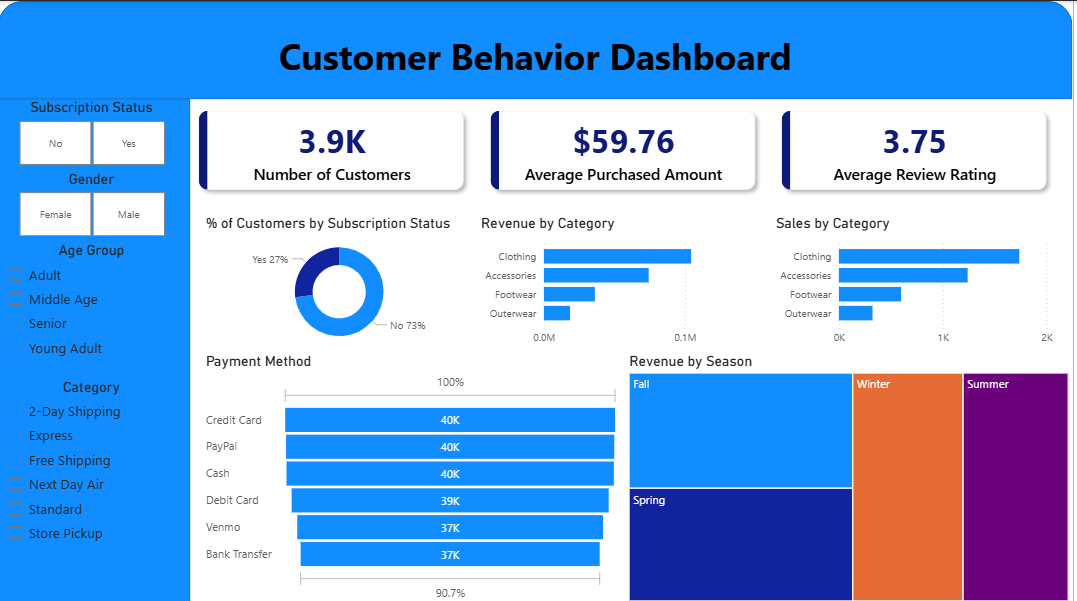

What the dashboard file says about the page in this screenshot:
{"tool":"powerbi","page":{"name":"Page 1","canvas":[1280,720],"ordinal":0},"visuals":[{"type":"cardVisual","fields":{"Data":["public customer.Number of Customers","public customer.Average Purchased Amount","public customer.Average Review Rating"]},"box":[210.4,101.8,1069.1,152.7],"z":0},{"type":"shape","box":[0,0,1279.5,117.1],"z":1000},{"type":"textbox","box":[0,30.5,1279.5,71.3],"z":2000},{"type":"donutChart","title":"% of Customers by Subscription Status","fields":{"Category":["public customer.subscription_status"],"Y":["CountNonNull(public customer.customer_id)"]},"box":[242.7,254.6,327.5,164.6],"z":3000},{"type":"clusteredBarChart","title":"Revenue by Category","fields":{"Category":["public customer.category"],"Y":["Sum(public customer.purchase_amount)"]},"box":[570.2,254.6,351.3,164.6],"z":4000},{"type":"clusteredBarChart","title":"Sales by Category","fields":{"Category":["public customer.category"],"Y":["public customer.Number of Customers"]},"box":[921.5,254.6,339.4,164.6],"z":5000},{"type":"shape","box":[0,117.1,229.1,602.4],"z":6000},{"type":"slicer","title":"Subscription Status","fields":{"Values":["public customer.subscription_status"]},"box":[0,117.1,222.3,84.9],"z":7000},{"type":"slicer","title":"Gender","fields":{"Values":["public customer.gender"]},"box":[0,201.9,222.3,84.9],"z":8000},{"type":"slicer","title":"Age Group","fields":{"Values":["public customer.age_group"]},"box":[0,286.8,222.3,162.9],"z":9000},{"type":"slicer","title":"Category","fields":{"Values":["public customer.shipping_type"]},"box":[0,449.7,222.3,269.8],"z":10000},{"type":"funnel","title":"Payment Method","fields":{"Category":["public customer.payment_method"],"Y":["Sum(public customer.purchase_amount)"]},"box":[242.7,419.2,502.3,300.4],"z":11000},{"type":"treemap","title":"Revenue by Season","fields":{"Group":["public customer.season"],"Values":["Sum(public customer.purchase_amount)"]},"box":[746.7,419.2,532.9,300.4],"z":12000}]}

Visuals, with their boxes in screenshot pixels (x1, y1, x2, y2), scaled from the page's 1280x720 canvas onto the 1077x601 screenshot:
cardVisual - public customer.Number of Customers x public customer.Average Purchased Amount: (left=177, top=85, right=1076, bottom=212)
shape: (left=0, top=0, right=1076, bottom=98)
textbox: (left=0, top=25, right=1076, bottom=85)
"% of Customers by Subscription Status" donutChart: (left=204, top=213, right=480, bottom=350)
"Revenue by Category" clusteredBarChart: (left=480, top=213, right=775, bottom=350)
"Sales by Category" clusteredBarChart: (left=775, top=213, right=1061, bottom=350)
shape: (left=0, top=98, right=193, bottom=600)
"Subscription Status" slicer: (left=0, top=98, right=187, bottom=169)
"Gender" slicer: (left=0, top=169, right=187, bottom=239)
"Age Group" slicer: (left=0, top=239, right=187, bottom=375)
"Category" slicer: (left=0, top=375, right=187, bottom=600)
"Payment Method" funnel: (left=204, top=350, right=627, bottom=600)
"Revenue by Season" treemap: (left=628, top=350, right=1076, bottom=600)
